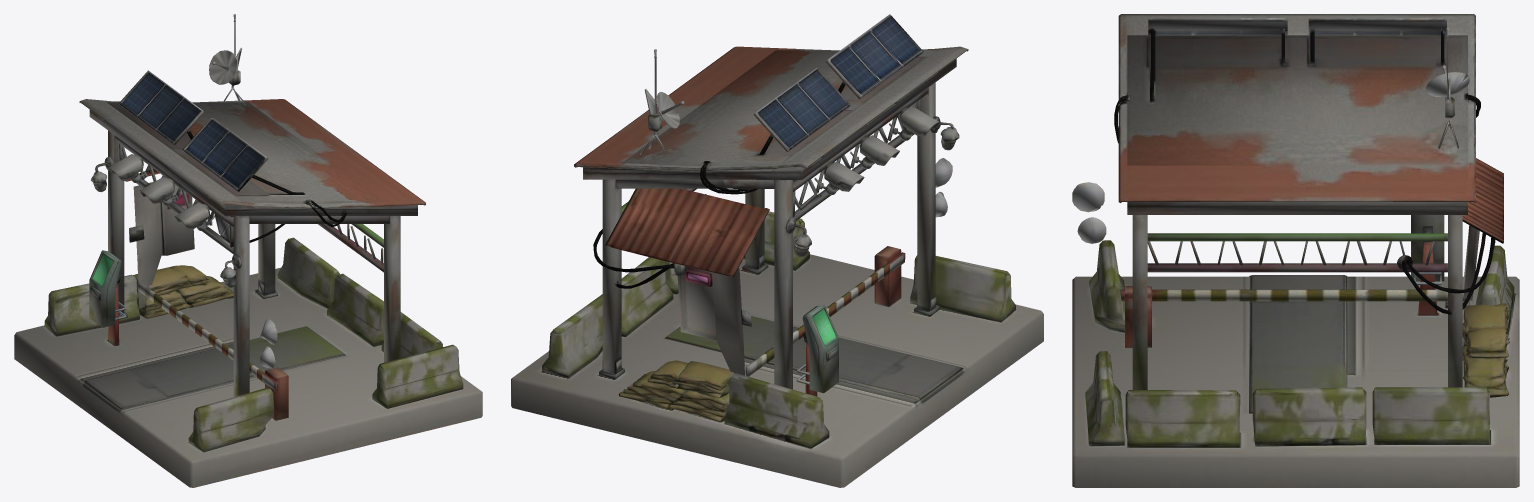
The model's file is checkpoint.glb.
3 views of the same model, side by side, from view 1: azimuth 30°, elevation 25°; view 2: azimuth 150°, elevation 25°; view 3: azimuth 270°, elevation 25° (orthographic). The views are drawn at different scales.
Parts seen in each view (by area): view 1: Body; view 2: Body; view 3: Body.
Boxes of the visible parts, x1=… form: Body: x1=14, y1=14, x2=482, y2=487; Body: x1=511, y1=14, x2=1043, y2=487; Body: x1=1072, y1=14, x2=1519, y2=487.
Size of the model in its own units: 12 by 12.45 by 12.64.
Materials: 1 (1 with a texture image).
